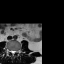CCS_normal: (12, 48, 14, 57)
LFS_normal: (15, 48, 17, 54)
LLS_normal: (14, 48, 15, 55)
RFS_normal: (8, 47, 10, 54)
RLS_normal: (10, 48, 12, 54)
